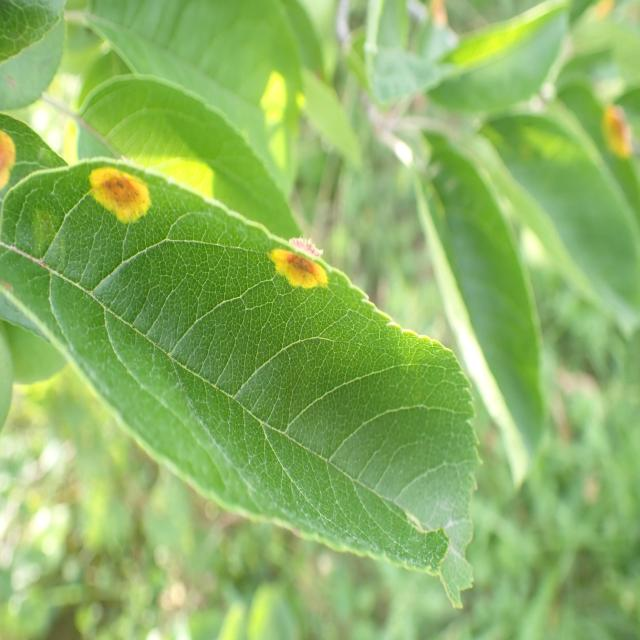Rust: (55, 137, 176, 236), (260, 228, 352, 307), (593, 86, 640, 173)
